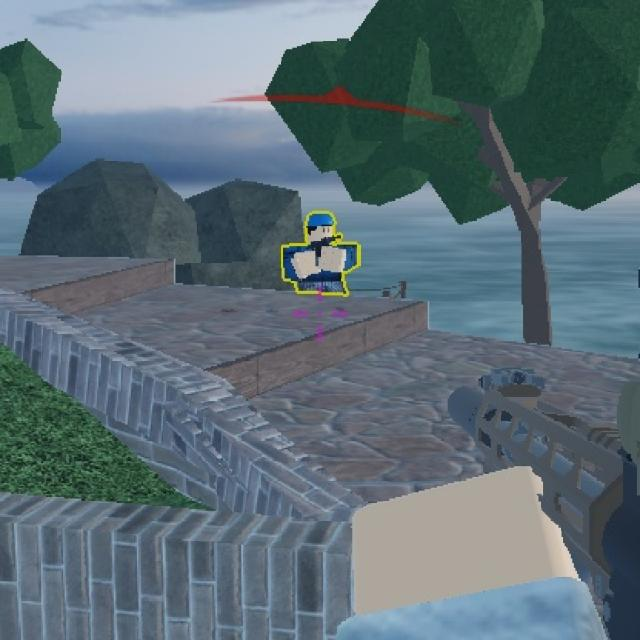player: (283, 202, 346, 298)
